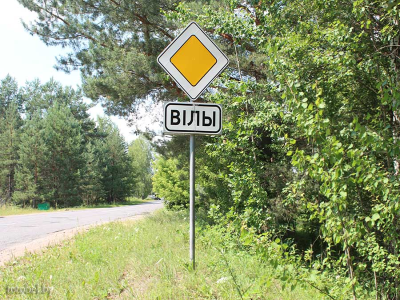priority_road: (163, 27, 222, 94)
